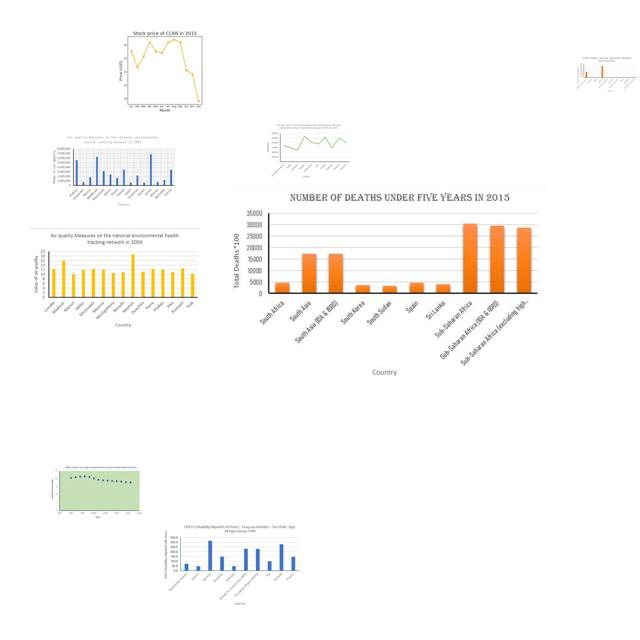Graph: (227, 184, 546, 388), (29, 228, 201, 332), (163, 523, 301, 608), (105, 26, 222, 114), (49, 133, 178, 210), (51, 464, 143, 519), (265, 123, 351, 180), (576, 56, 638, 92)
